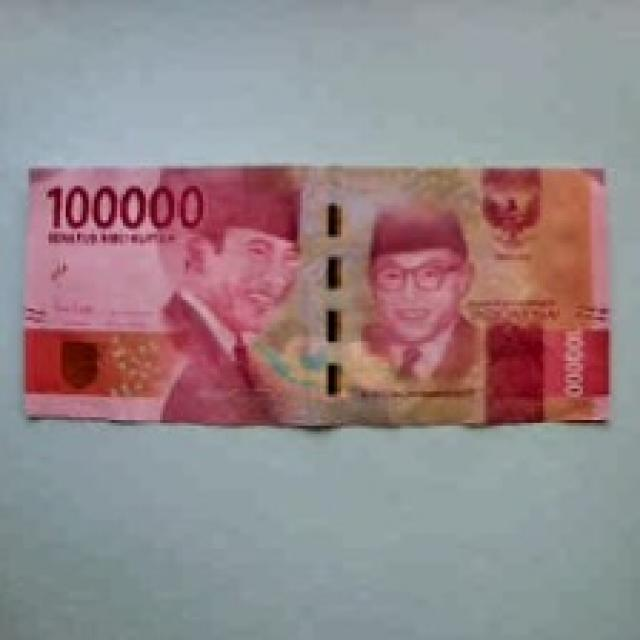lima puluh ribu rupiah: (7, 143, 640, 438)
